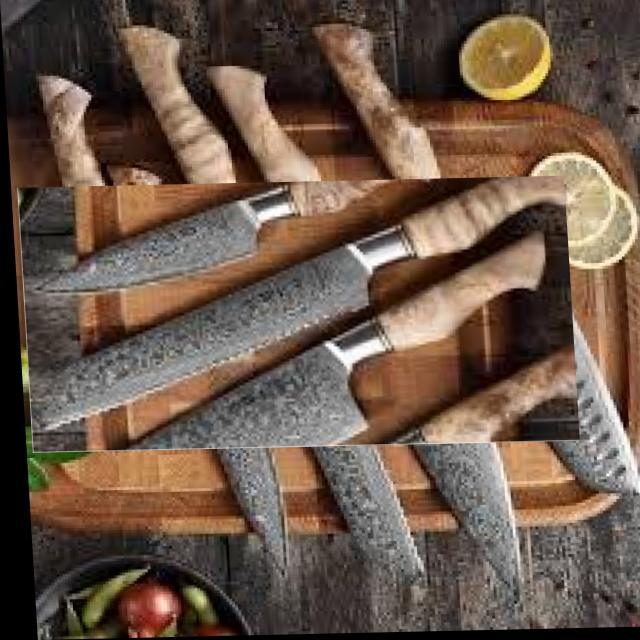knife: (203, 0, 522, 587), (112, 23, 428, 578), (309, 0, 640, 495), (30, 176, 569, 432), (34, 70, 289, 580), (120, 234, 548, 450), (32, 178, 392, 298)
